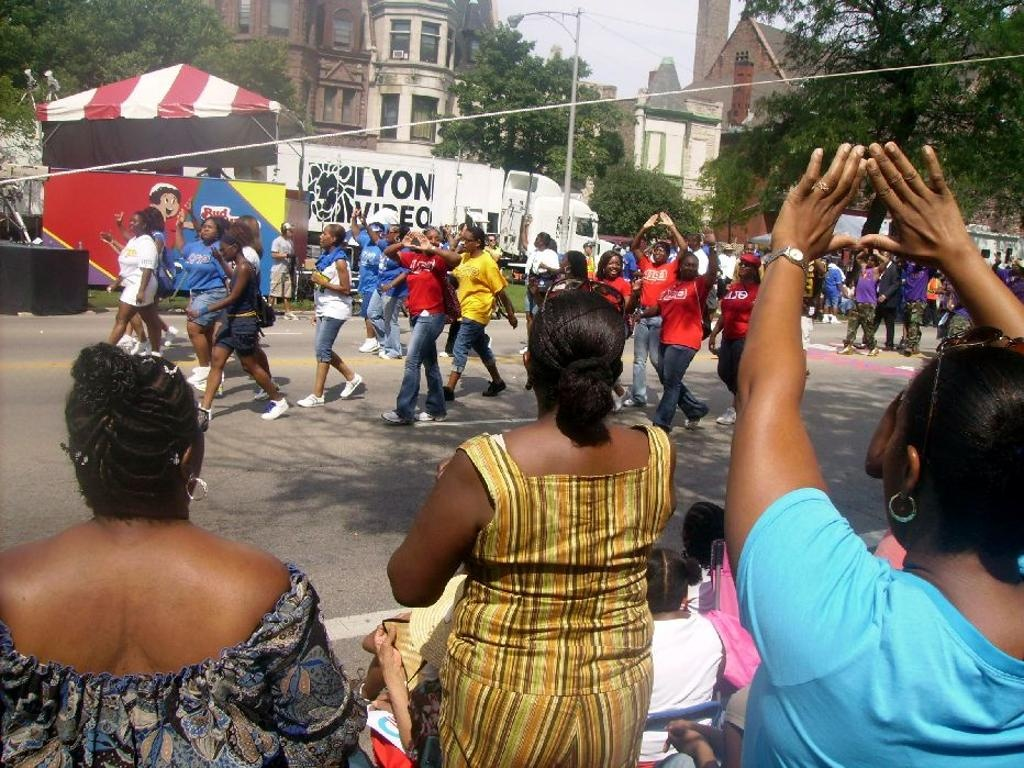human_face: (200, 219, 216, 239), (424, 233, 440, 251), (129, 214, 145, 232), (318, 226, 332, 246), (219, 238, 233, 258), (682, 256, 696, 274), (606, 256, 620, 272), (463, 232, 477, 248), (653, 244, 665, 260), (737, 261, 749, 275), (744, 243, 754, 255), (559, 252, 569, 264), (533, 236, 543, 246), (488, 234, 496, 246), (688, 236, 696, 246), (286, 226, 292, 237), (882, 250, 890, 258), (868, 255, 874, 265), (725, 246, 731, 254), (584, 244, 590, 252), (390, 229, 396, 237)
